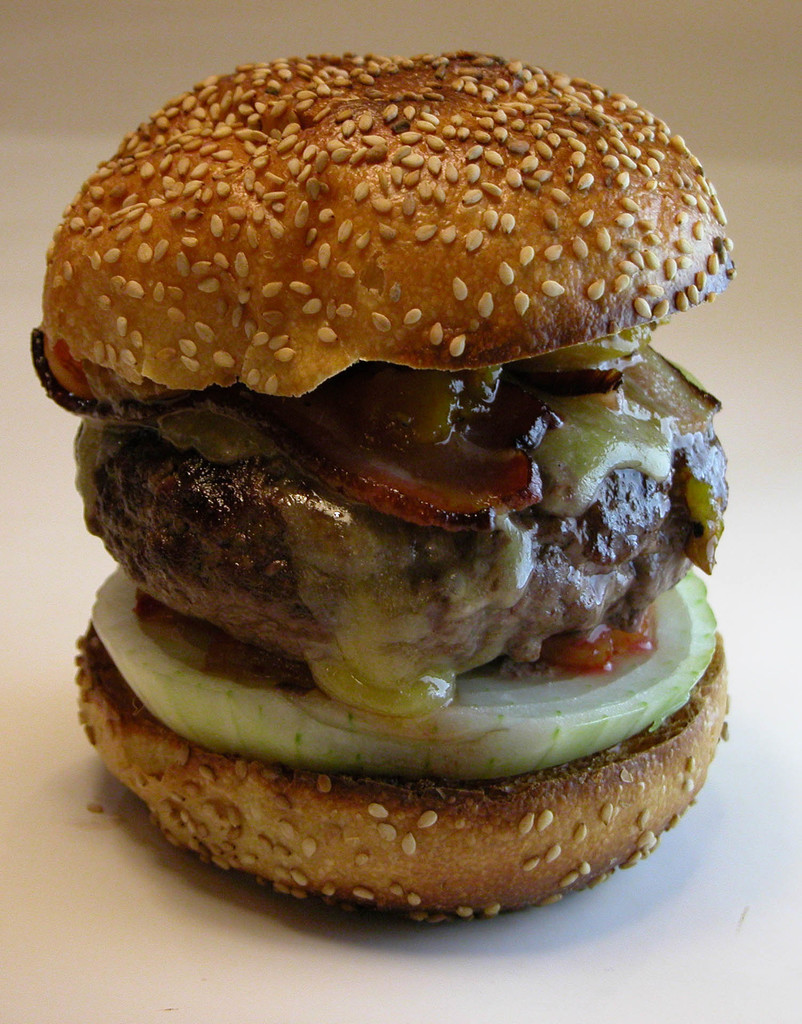Hamburger: (30, 49, 739, 927)
